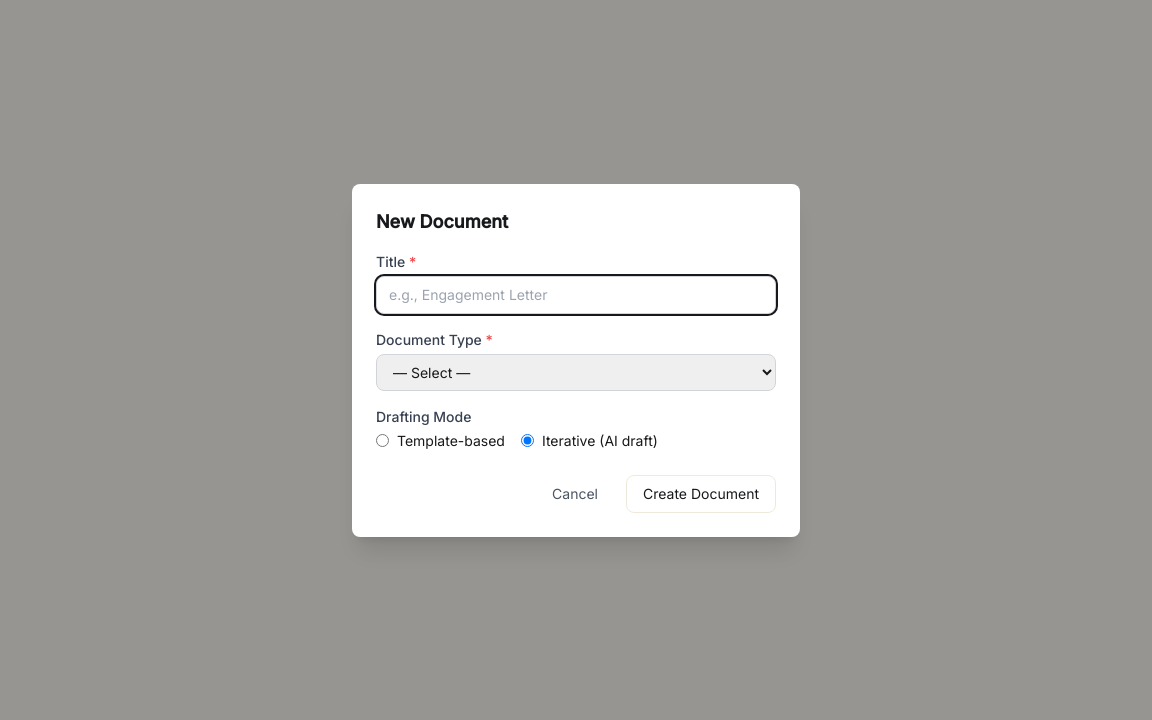
Test: TEMPLATE-PIPELINE-1 CreateDocumentForm — template picker + bind › template mode + a type with NO active template -> empty-state, no select
The width and height of the screenshot is (1152, 720).
Select "Engagement Letter" in the dropdown at coordinates (576, 372), box [376, 354, 776, 390]
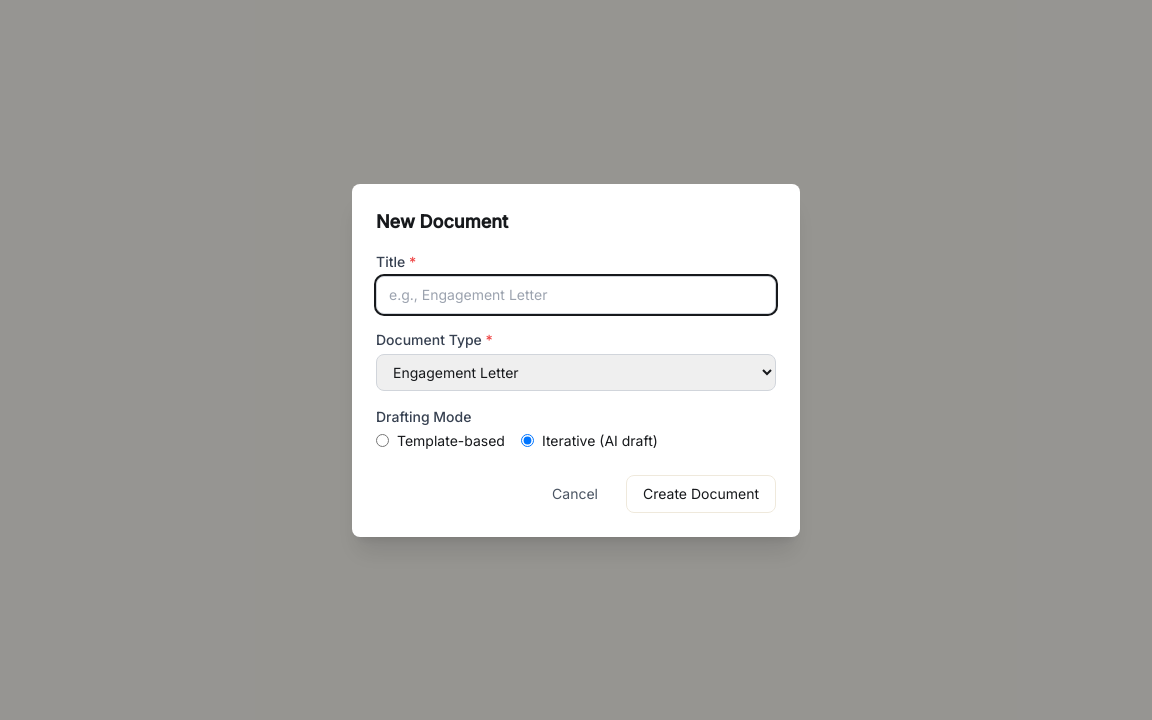
Click the radio button named "draftingMode" at coordinates (382, 440), box [376, 434, 389, 447]
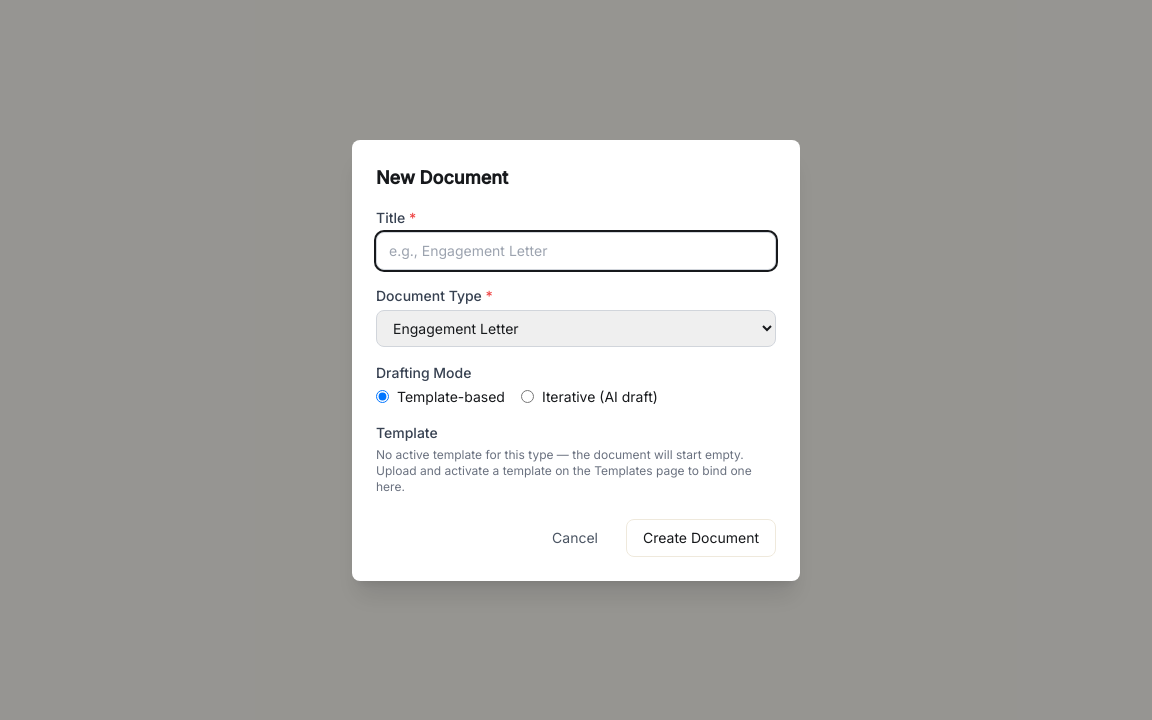
Expected: the text with test id "template-picker-empty" is shown, [376, 446, 776, 494]
